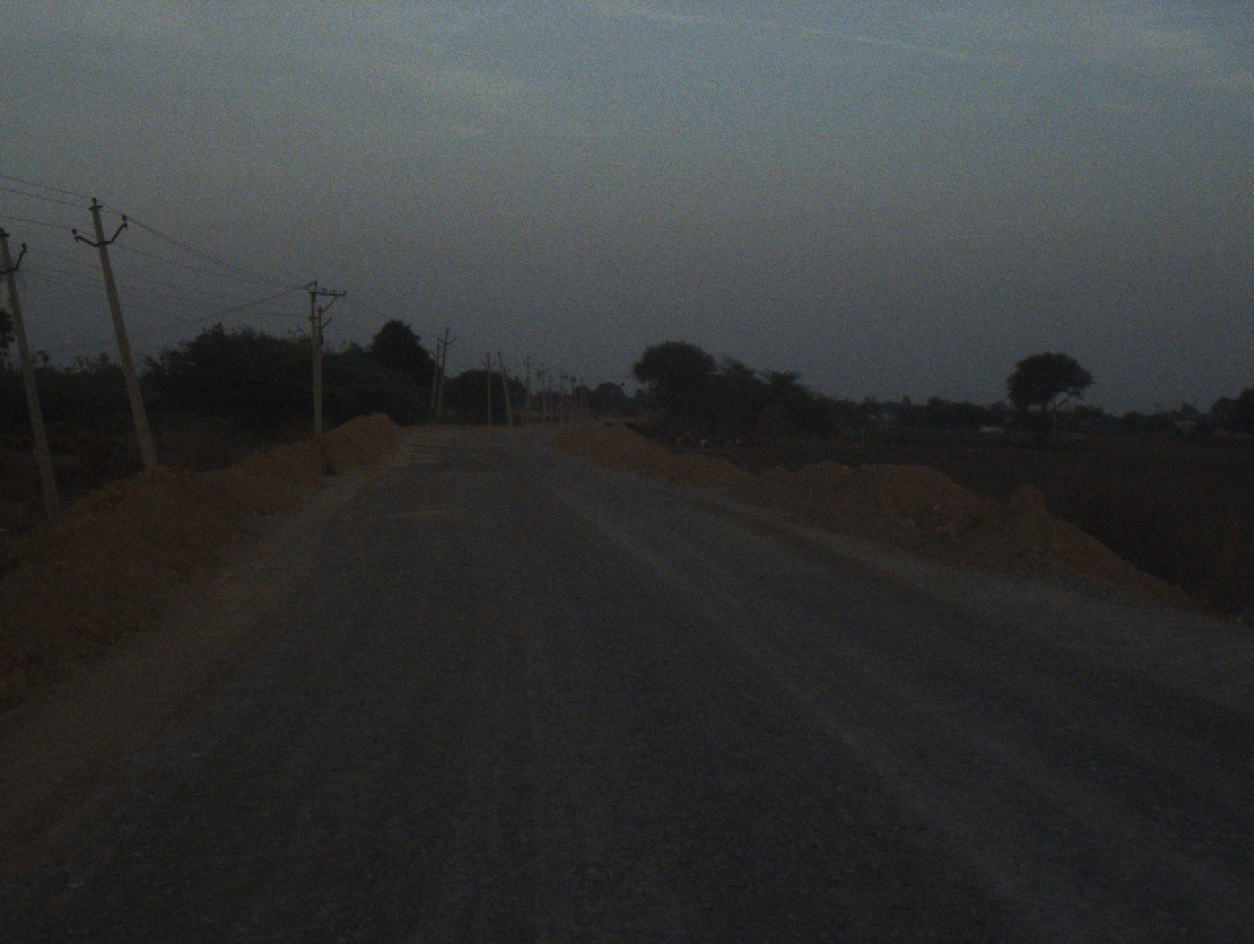animal: (671, 420, 723, 452), (730, 424, 760, 448), (642, 422, 665, 436)
